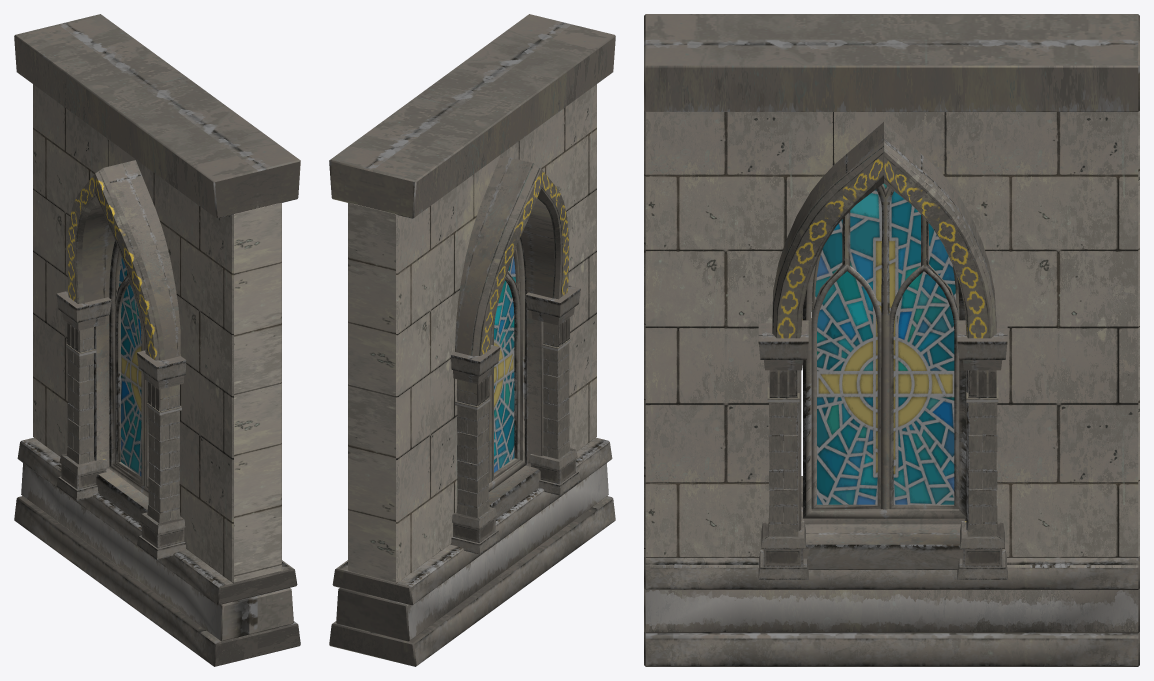
File: SM_Church_Wall_WindowWall.fbx
3 renders of one model, left to right at view 1: azimuth 30°, elevation 25°; view 2: azimuth 150°, elevation 25°; view 3: azimuth 270°, elevation 25°, orthographic. The views are drawn at different scales.
Visible parts, largest first — view 1: SM_Wall_Doorway.003, SM_Pillar.001, SM_Wall_Doorway.002, SM_Window_Frame, SM_Wall_Base_WindowWall, SM_Window_Glass.003; view 2: SM_Wall_Doorway.003, SM_Pillar.001, SM_Wall_Doorway.002, SM_Window_Frame, SM_Wall_Base_WindowWall, SM_Window_Glass.003; view 3: SM_Wall_Doorway.003, SM_Window_Glass.003, SM_Pillar.001, SM_Wall_Doorway.002, SM_Window_Frame, SM_Wall_Base_WindowWall.
Boxes of the visible parts, bbox=[...] form: SM_Wall_Doorway.003: bbox=[14, 14, 300, 666]; SM_Pillar.001: bbox=[56, 291, 186, 559]; SM_Wall_Doorway.002: bbox=[67, 160, 180, 360]; SM_Window_Frame: bbox=[109, 240, 148, 497]; SM_Wall_Base_WindowWall: bbox=[94, 315, 148, 524]; SM_Window_Glass.003: bbox=[119, 257, 141, 476]; SM_Wall_Doorway.003: bbox=[329, 14, 615, 666]; SM_Pillar.001: bbox=[450, 285, 580, 554]; SM_Wall_Doorway.002: bbox=[455, 155, 569, 355]; SM_Window_Frame: bbox=[488, 237, 526, 491]; SM_Wall_Base_WindowWall: bbox=[488, 305, 543, 518]; SM_Window_Glass.003: bbox=[494, 256, 515, 472]; SM_Wall_Doorway.003: bbox=[644, 14, 1139, 666]; SM_Window_Glass.003: bbox=[815, 183, 955, 504]; SM_Pillar.001: bbox=[758, 304, 1007, 579]; SM_Wall_Doorway.002: bbox=[772, 122, 996, 338]; SM_Window_Frame: bbox=[803, 184, 966, 518]; SM_Wall_Base_WindowWall: bbox=[783, 370, 982, 569].
Bounding box in the file's own units: 228 × 804 × 600.
